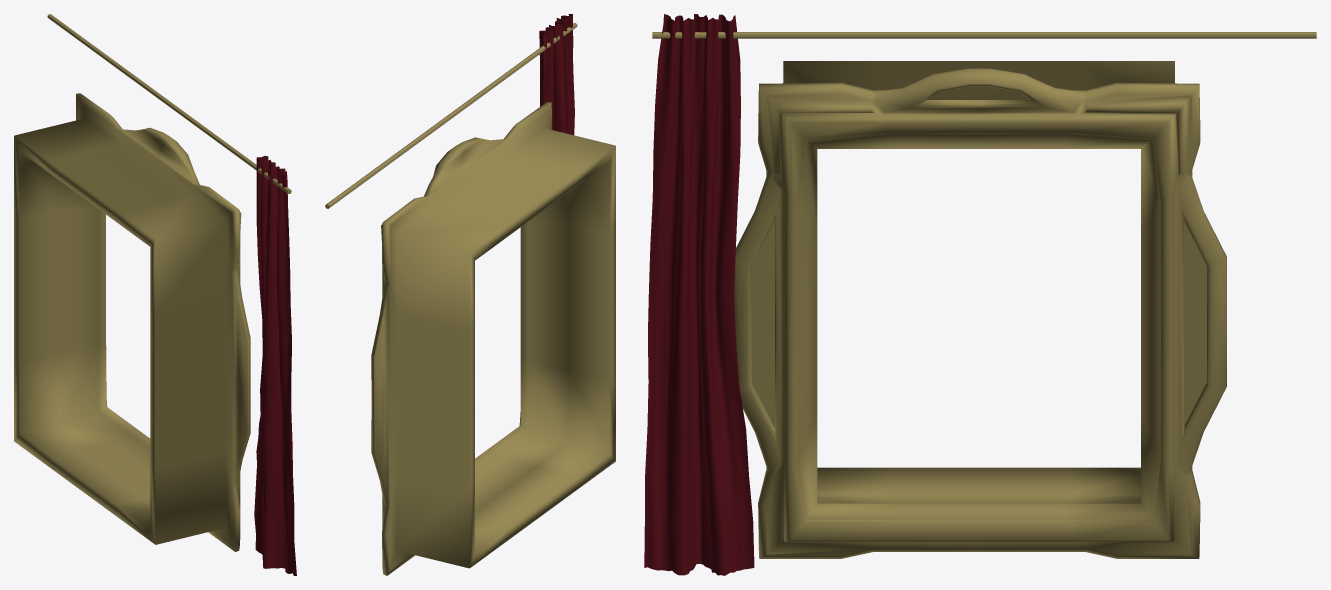
The model's file is picframe_NONEMBED.fbx.
3 renders of one model, left to right at view 1: azimuth 30°, elevation 25°; view 2: azimuth 150°, elevation 25°; view 3: azimuth 270°, elevation 25°, orthographic. The views are drawn at different scales.
Parts seen in each view (by area): view 1: picframe1, frameCurtainL, Cylinder; view 2: picframe1, frameCurtainL, Cylinder; view 3: picframe1, frameCurtainL, Cylinder.
Part boxes in pixels (bbox=[...]): picframe1: bbox=[14, 93, 250, 551]; frameCurtainL: bbox=[254, 156, 296, 575]; Cylinder: bbox=[47, 14, 291, 193]; picframe1: bbox=[371, 102, 615, 575]; frameCurtainL: bbox=[539, 14, 574, 135]; Cylinder: bbox=[325, 23, 577, 208]; picframe1: bbox=[734, 61, 1226, 558]; frameCurtainL: bbox=[644, 14, 754, 575]; Cylinder: bbox=[652, 32, 1316, 38].
Bounding box in the file's own units: 161 × 634 × 696.
